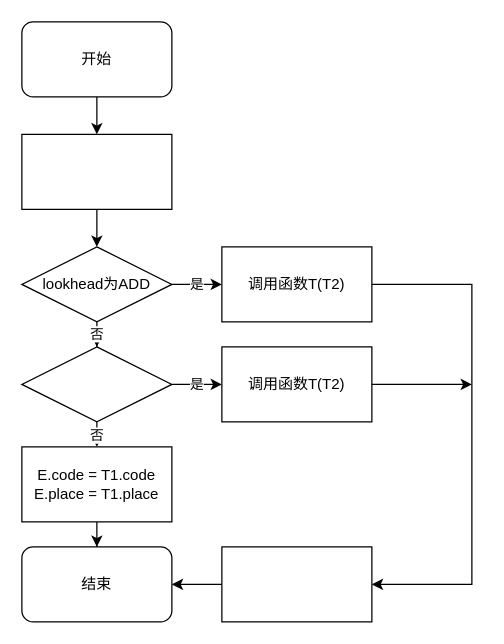
This 504x644 diagram has some shape labels left out. Each missing label, with the centre of its shape:
lookhead为SUB: [96,384]
生成E.code, E.place: [296,584]
调用函数T(T1): [96,171]
